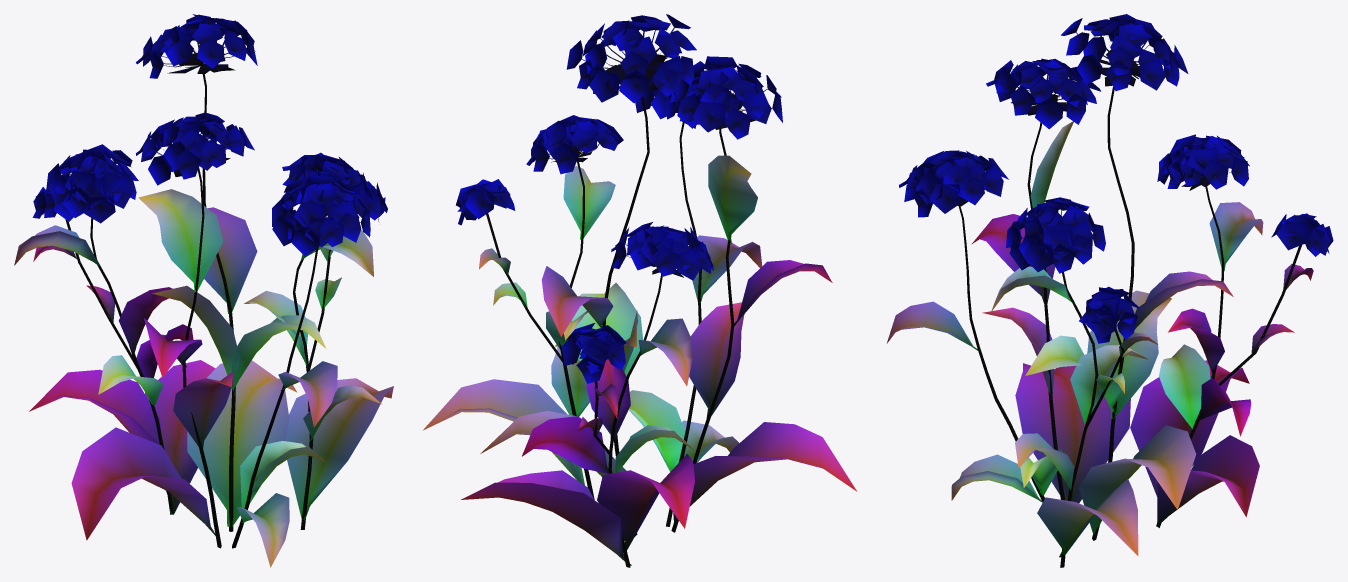
File: SM_WildCarrot_M_01.fbx
3 views of the same model, side by side, from view 1: azimuth 30°, elevation 25°; view 2: azimuth 150°, elevation 25°; view 3: azimuth 270°, elevation 25° (orthographic). The views are drawn at different scales.
Visible parts, largest first — view 1: SM_WildCarrot_M_01_LOD0; view 2: SM_WildCarrot_M_01_LOD0; view 3: SM_WildCarrot_M_01_LOD0.
Part boxes in pixels (x1,y1,x2,y2): SM_WildCarrot_M_01_LOD0: (14,14,393,567); SM_WildCarrot_M_01_LOD0: (423,14,856,567); SM_WildCarrot_M_01_LOD0: (886,14,1333,567).
Size of the model in its own units: 74.77 by 79.41 by 100.
